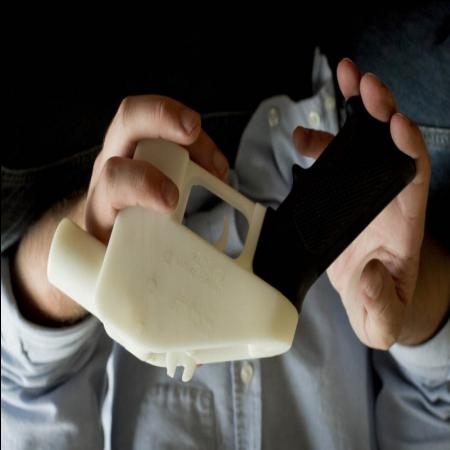Pistol: (45, 88, 416, 382)
